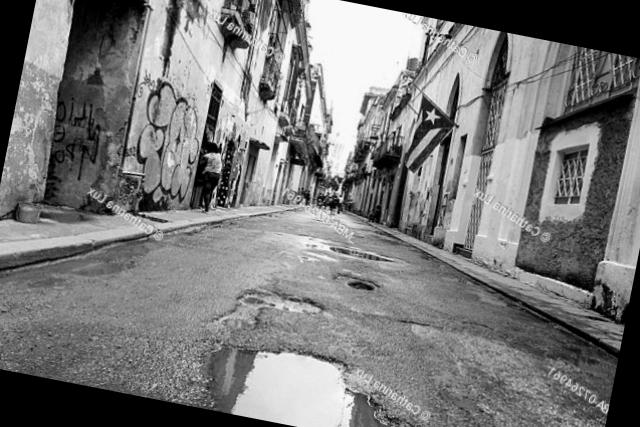Pothole: (154, 318, 489, 427), (204, 274, 330, 352), (316, 234, 397, 268), (314, 266, 388, 299)
